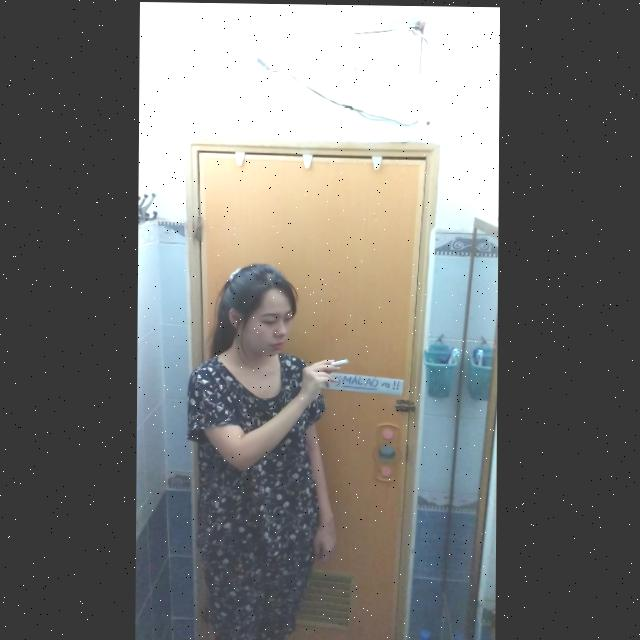cigarette: (331, 358, 349, 364)
